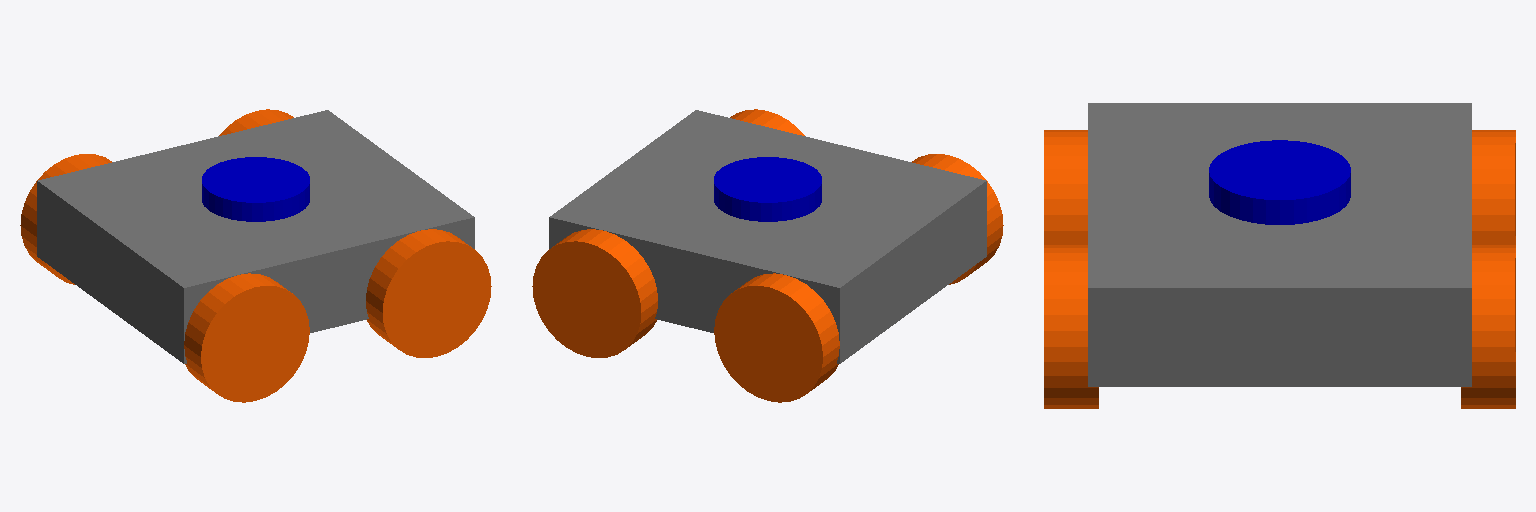
The robot description file, URDF, robot "dhpr":
<?xml version="1.0" ?>
<!-- =================================================================================== -->
<!-- |    This document was autogenerated by xacro from dhpr.urdf.xacro                | -->
<!-- |    EDITING THIS FILE BY HAND IS NOT RECOMMENDED                                 | -->
<!-- =================================================================================== -->
<robot name="dhpr">
  <!-- Plugins -->
  <gazebo>
    <!-- Diff_Drive_Plugin -->
    <plugin filename="gz-sim-diff-drive-system" name="gz::sim::systems::DiffDrive">
      <!-- Topic for the command input -->
      <topic>/cmd_vel</topic>
      <!-- Wheel joints -->
      <left_joint>front_left_wheel_joint</left_joint>
      <left_joint>rear_left_wheel_joint</left_joint>
      <right_joint>front_right_wheel_joint</right_joint>
      <right_joint>rear_right_wheel_joint</right_joint>
      <!-- Wheel parameters -->
      <wheel_separation>0.7</wheel_separation>
      <wheel_radius>0.10</wheel_radius>
      <!-- Control gains and limits (optional) -->
      <max_velocity>3.0</max_velocity>
      <max_linear_acceleration>1</max_linear_acceleration>
      <min_linear_acceleration>-1</min_linear_acceleration>
      <max_angular_acceleration>2</max_angular_acceleration>
      <min_angular_acceleration>-2</min_angular_acceleration>
      <max_linear_velocity>0.5</max_linear_velocity>
      <min_linear_velocity>-0.5</min_linear_velocity>
      <max_angular_velocity>1</max_angular_velocity>
      <min_angular_velocity>-1</min_angular_velocity>
      <!-- Other parameters (optional) -->
      <odom_topic>odom</odom_topic>
      <tf_topic>tf</tf_topic>
      <frame_id>odom</frame_id>
      <child_frame_id>base_footprint</child_frame_id>
      <odom_publish_frequency>30</odom_publish_frequency>
    </plugin>
    <!-- Joint_State_Plugin -->
    <plugin filename="gz-sim-joint-state-publisher-system" name="gz::sim::systems::JointStatePublisher">
      <topic>joint_states</topic>
      <joint_name>front_left_wheel_joint</joint_name>
      <joint_name>front_right_wheel_joint</joint_name>
      <joint_name>rear_left_wheel_joint</joint_name>
      <joint_name>rear_right_wheel_joint</joint_name>
    </plugin>
  </gazebo>
  <!-- Lidar -->
  <gazebo reference="lidar_link">
    <sensor name="gpu_lidar" type="gpu_lidar">
      <pose>0 0 0 0 0 0</pose>
      <always_on>true</always_on>
      <visualize>true</visualize>
      <update_rate>10</update_rate>
      <topic>scan</topic>
      <!-- Important tag for gz_brdige communication -->
      <gz_frame_id>lidar_link</gz_frame_id>
      <lidar>
        <scan>
          <!-- 2D Lidar -->
          <horizontal>
            <samples>360</samples>
            <min_angle>-3.14</min_angle>
            <max_angle>3.14</max_angle>
          </horizontal>
          <!-- Include for 3D Lidar -->
          <vertical>
            <samples>40</samples>
            <min_angle>-0.186</min_angle>
            <max_angle>0.186</max_angle>
          </vertical>
        </scan>
        <range>
          <min>0.3</min>
          <max>12</max>
        </range>
      </lidar>
    </sensor>
  </gazebo>
  <!-- Materials -->
  <material name="black">
    <color rgba="0.0 0.0 0.0 1.0"/>
  </material>
  <material name="white">
    <color rgba="1.0 1.0 1.0 1.0"/>
  </material>
  <material name="red">
    <color rgba="0.8 0.0 0.0 1.0"/>
  </material>
  <material name="blue">
    <color rgba="0.0 0.0 0.8 1.0"/>
  </material>
  <material name="green">
    <color rgba="0.0 0.8 0.0 1.0"/>
  </material>
  <material name="grey">
    <color rgba="0.5 0.5 0.5 1.0"/>
  </material>
  <material name="orange">
    <color rgba="1.0 0.4235294117647059 0.0392156862745098 1.0"/>
  </material>
  <material name="brown">
    <color rgba="0.8705882352941177 0.8117647058823529 0.7647058823529411 1.0"/>
  </material>
  <!-- BaseFootprint -->
  <link name="base_footprint"/>
  <!-- Joint BaseFootprint -> BaseLink -->
  <joint name="base_footprint_joint" type="fixed">
    <origin rpy="0 0 0" xyz="0 0 0.1"/>
    <parent link="base_footprint"/>
    <child link="base_link"/>
  </joint>
  <!-- BaseLink -->
  <link name="base_link">
    <pose>0 0 0.1 0 0 0</pose>
    <inertial>
      <mass value="15.0"/>
      <origin rpy=" 0 0 0" xyz="0 0 0.1"/>
      <inertia ixx="0.6624999999999999" ixy="0" ixz="0" iyy="0.8500000000000002" iyz="0" izz="1.4125000000000003"/>
    </inertial>
    <collision name="collision">
      <origin rpy=" 0 0 0" xyz="0 0 0.1"/>
      <geometry>
        <box size="0.8 0.7 0.2"/>
      </geometry>
    </collision>
    <visual name="base_link_visual">
      <material name="grey"/>
      <origin rpy=" 0 0 0" xyz="0 0 0.1"/>
      <geometry>
        <box size="0.8 0.7 0.2"/>
      </geometry>
    </visual>
  </link>
  <!-- Joint BaseLink -> FrontLeftWheel -->
  <joint name="front_left_wheel_joint" type="continuous">
    <origin rpy="0 0 0" xyz="0.25 0.38 0.05"/>
    <child link="front_left_wheel"/>
    <parent link="base_link"/>
    <axis rpy="0 0 0" xyz="0 1 0"/>
    <limit effort="100" velocity="10"/>
    <dynamics damping="1.0" friction="1.0"/>
  </joint>
  <!-- FrontLeftWheel -->
  <link name="front_left_wheel">
    <inertial>
      <mass value="5.0"/>
      <origin rpy="0 1.5707 1.5707" xyz="0 0 0"/>
      <inertia ixx="0.014" ixy="0" ixz="0" iyy="0.014" iyz="0" izz="0.025"/>
    </inertial>
    <collision>
      <origin rpy="0 1.5707 1.5707" xyz="0 0 0"/>
      <geometry>
        <cylinder length="0.10" radius="0.15"/>
      </geometry>
    </collision>
    <visual name="front_left_wheel_visual">
      <material name="orange"/>
      <origin rpy="0 1.5707 1.5707" xyz="0 0 0"/>
      <geometry>
        <cylinder length="0.10" radius="0.15"/>
      </geometry>
    </visual>
  </link>
  <!-- Joint BaseLink -> FrontRightWheel -->
  <joint name="front_right_wheel_joint" type="continuous">
    <origin rpy="0 0 0" xyz="0.25 -0.38 0.05"/>
    <child link="front_right_wheel"/>
    <parent link="base_link"/>
    <axis rpy="0 0 0" xyz="0 1 0"/>
    <limit effort="100" velocity="10"/>
    <dynamics damping="1.0" friction="1.0"/>
  </joint>
  <!-- FrontRightWheel -->
  <link name="front_right_wheel">
    <inertial>
      <mass value="5.0"/>
      <origin rpy="0 1.5707 1.5707" xyz="0 0 0"/>
      <inertia ixx="0.014" ixy="0" ixz="0" iyy="0.014" iyz="0" izz="0.025"/>
    </inertial>
    <collision>
      <origin rpy="0 1.5707 1.5707" xyz="0 0 0"/>
      <geometry>
        <cylinder length="0.10" radius="0.15"/>
      </geometry>
    </collision>
    <visual name="front_right_wheel_visual">
      <material name="orange"/>
      <origin rpy="0 1.5707 1.5707" xyz="0 0 0"/>
      <geometry>
        <cylinder length="0.10" radius="0.15"/>
      </geometry>
    </visual>
  </link>
  <!-- Joint BaseLink -> RearLeftWheel -->
  <joint name="rear_left_wheel_joint" type="continuous">
    <origin rpy="0 0 0" xyz="-0.25 0.38 0.05"/>
    <child link="rear_left_wheel"/>
    <parent link="base_link"/>
    <axis rpy="0 0 0" xyz="0 1 0"/>
    <limit effort="100" velocity="10"/>
    <dynamics damping="1.0" friction="1.0"/>
  </joint>
  <!-- LeftWheel -->
  <link name="rear_left_wheel">
    <inertial>
      <mass value="5.0"/>
      <origin rpy="0 1.5707 1.5707" xyz="0 0 0"/>
      <inertia ixx="0.014" ixy="0" ixz="0" iyy="0.014" iyz="0" izz="0.025"/>
    </inertial>
    <collision>
      <origin rpy="0 1.5707 1.5707" xyz="0 0 0"/>
      <geometry>
        <cylinder length="0.10" radius="0.15"/>
      </geometry>
    </collision>
    <visual name="rear_left_wheel_visual">
      <material name="orange"/>
      <origin rpy="0 1.5707 1.5707" xyz="0 0 0"/>
      <geometry>
        <cylinder length="0.10" radius="0.15"/>
      </geometry>
    </visual>
  </link>
  <!-- Joint BaseLink -> RearRightWheel -->
  <joint name="rear_right_wheel_joint" type="continuous">
    <origin rpy="0 0 0" xyz="-0.25 -0.38 0.05"/>
    <child link="rear_right_wheel"/>
    <parent link="base_link"/>
    <axis rpy="0 0 0" xyz="0 1 0"/>
    <limit effort="100" velocity="10"/>
    <dynamics damping="1.0" friction="1.0"/>
  </joint>
  <!-- RightWheel -->
  <link name="rear_right_wheel">
    <inertial>
      <mass value="5.0"/>
      <origin rpy="0 1.5707 1.5707" xyz="0 0 0"/>
      <inertia ixx="0.014" ixy="0" ixz="0" iyy="0.014" iyz="0" izz="0.025"/>
    </inertial>
    <collision>
      <origin rpy="0 1.5707 1.5707" xyz="0 0 0"/>
      <geometry>
        <cylinder length="0.10" radius="0.15"/>
      </geometry>
    </collision>
    <visual name="rear_right_wheel_visual">
      <material name="orange"/>
      <origin rpy="0 1.5707 1.5707" xyz="0 0 0"/>
      <geometry>
        <cylinder length="0.10" radius="0.15"/>
      </geometry>
    </visual>
  </link>
  <!-- Joint BaseLink -> Lidar -->
  <joint name="lidar_joint" type="fixed">
    <origin rpy="0 0 0" xyz="0 0 0.20"/>
    <child link="lidar_link"/>
    <parent link="base_link"/>
  </joint>
  <!-- Lidar -->
  <link name="lidar_link">
    <inertial>
      <mass value="0.3"/>
      <origin rpy="0 0 0" xyz="0 0 0"/>
      <inertia ixx="0.0013125" ixy="0" ixz="0" iyy="0.0013125" iyz="0" izz="0.0015"/>
    </inertial>
    <collision>
      <origin rpy="0 0 0" xyz="0 0 0"/>
      <geometry>
        <box size="0.15 0.15 0.15"/>
      </geometry>
    </collision>
    <visual name="lidar_link_visual">
      <material name="blue"/>
      <origin rpy="0 0 0" xyz="0 0 0"/>
      <geometry>
        <cylinder length="0.10" radius="0.13"/>
      </geometry>
    </visual>
  </link>
</robot>

--- Render facts (derived) ---
Views: 3 orthographic renders of the robot side by side, from view 1: azimuth 30°, elevation 25°; view 2: azimuth 150°, elevation 25°; view 3: azimuth 270°, elevation 25°.
Robot: dhpr — 7 links, 6 joints (4 continuous, 2 fixed); root link base_footprint; default pose: all joints at 0.
Visible links, largest first — view 1: base_link, front_right_wheel, rear_right_wheel, lidar_link, rear_left_wheel, front_left_wheel; view 2: base_link, front_left_wheel, rear_left_wheel, lidar_link, rear_right_wheel, front_right_wheel; view 3: base_link, lidar_link, front_left_wheel, front_right_wheel, rear_left_wheel, rear_right_wheel.
Link boxes in pixels (box(x1,y1,x2,y2)): base_link: box(37, 110, 474, 363); front_right_wheel: box(366, 229, 491, 357); rear_right_wheel: box(184, 273, 309, 402); lidar_link: box(202, 157, 309, 221); rear_left_wheel: box(20, 154, 111, 284); front_left_wheel: box(219, 109, 293, 135); base_link: box(549, 110, 986, 363); front_left_wheel: box(532, 229, 657, 357); rear_left_wheel: box(714, 273, 839, 402); lidar_link: box(714, 157, 821, 221); rear_right_wheel: box(912, 154, 1003, 284); front_right_wheel: box(730, 109, 804, 135); base_link: box(1088, 103, 1471, 386); lidar_link: box(1209, 140, 1350, 224); front_left_wheel: box(1461, 245, 1515, 408); front_right_wheel: box(1044, 245, 1098, 408); rear_left_wheel: box(1472, 130, 1515, 244); rear_right_wheel: box(1044, 130, 1087, 244).
Bounding box of the posed robot: 0.8 × 0.86 × 0.35 m (x, y, z).
Geometry: primitives only (box / cylinder / sphere), no mesh files.